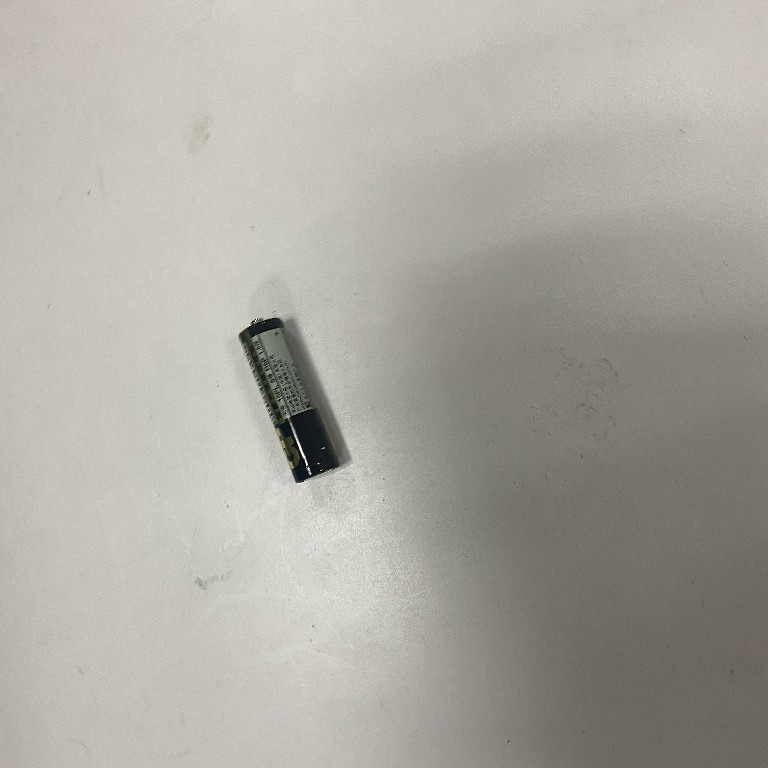charge: (234, 313, 349, 489)
